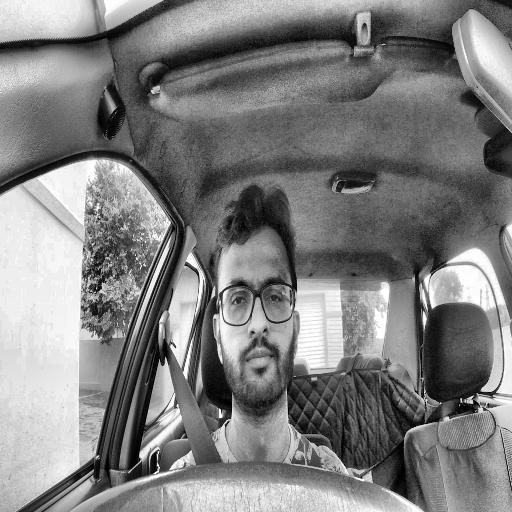awake: (211, 185, 302, 421)
